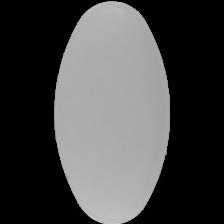63187-693: (0, 0, 224, 224)
